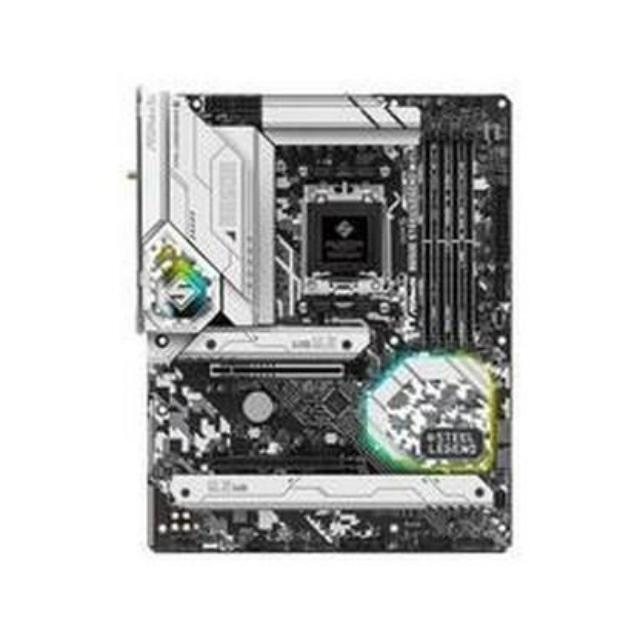Mainboard: (118, 75, 530, 562)
